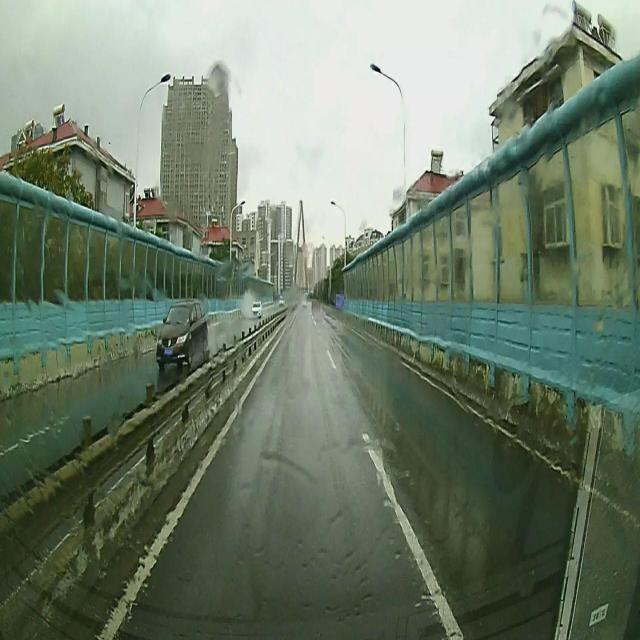car: (156, 300, 207, 370), (252, 302, 260, 318)
